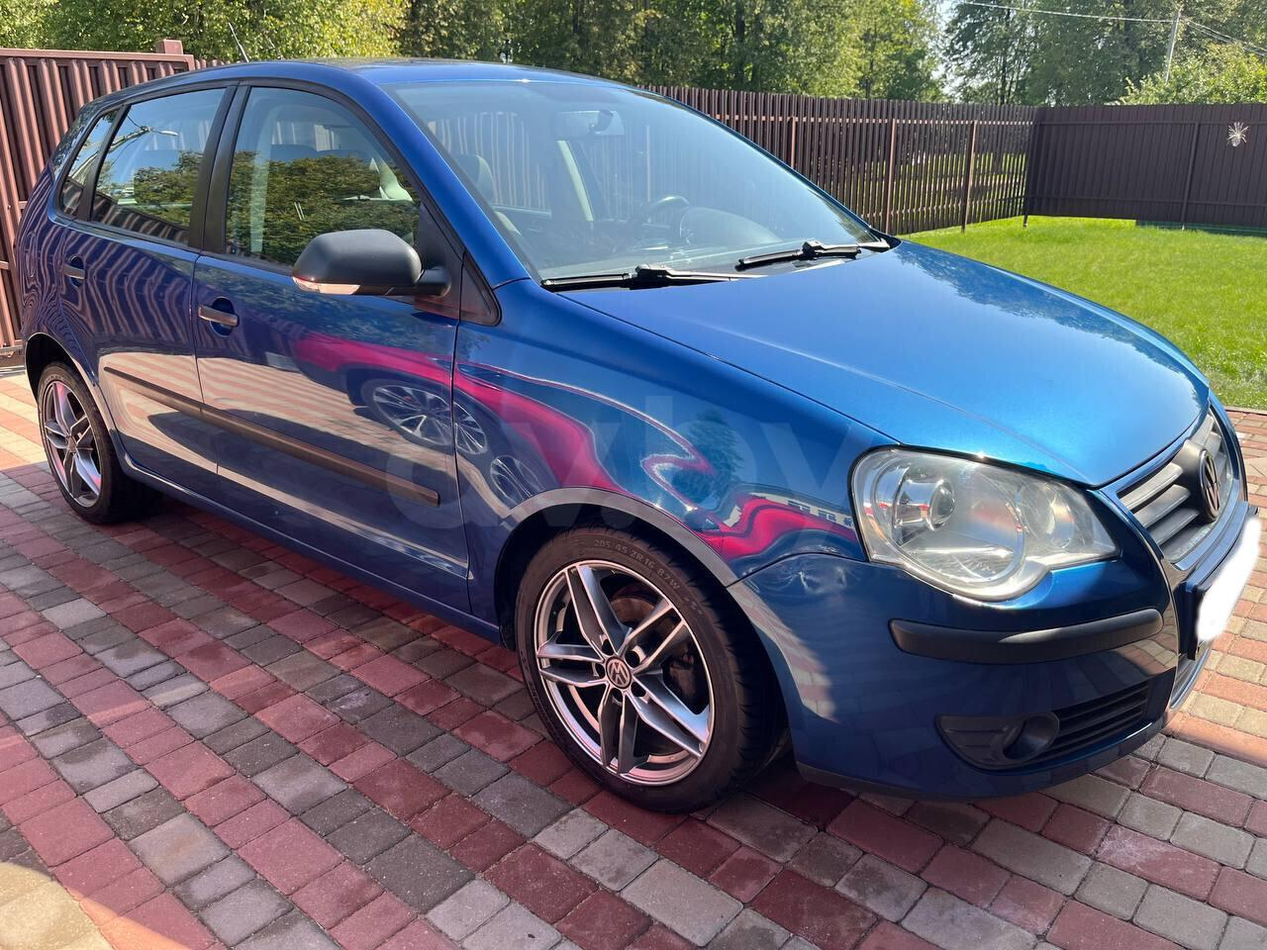Polo_2005-2009: (8, 48, 1246, 819)
